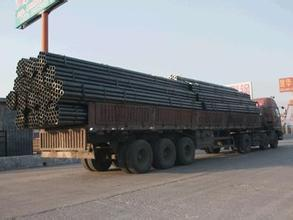chaozhai: (3, 48, 283, 174)
